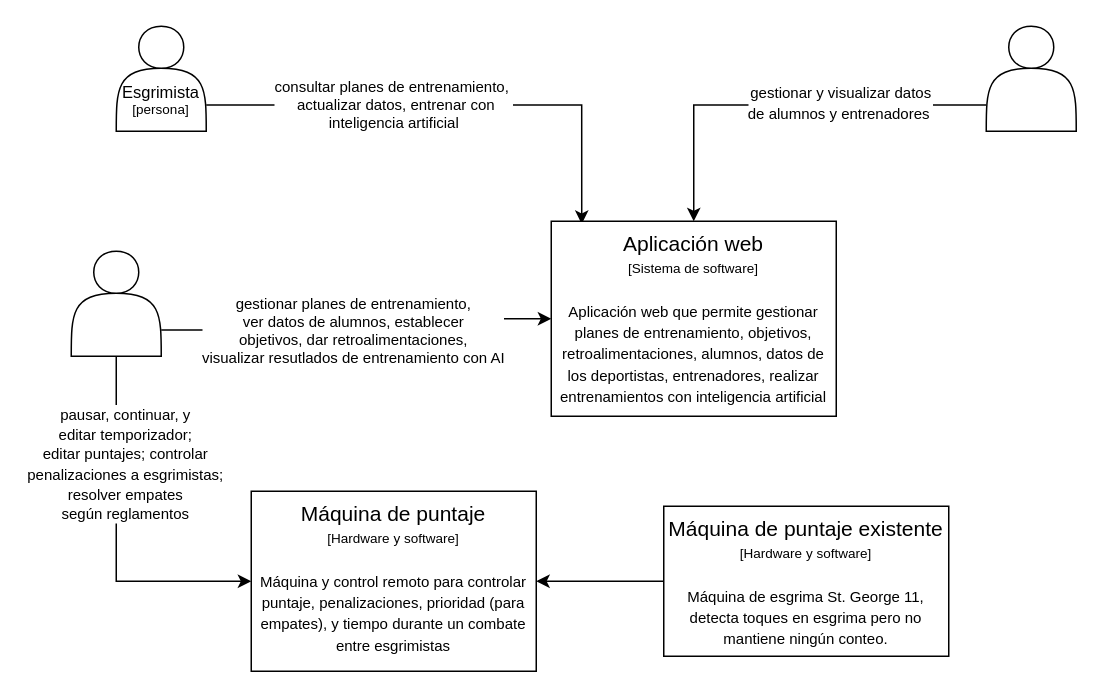
Some shapes in this 1103 by 698 pixel diagram are drawn without their labels. Here are the shapes that lost their labels. From the top down, the centre of each, then its label:
At point 1030,78: "Admin [persona]".
At point 115,303: "Entrenador [persona]".
